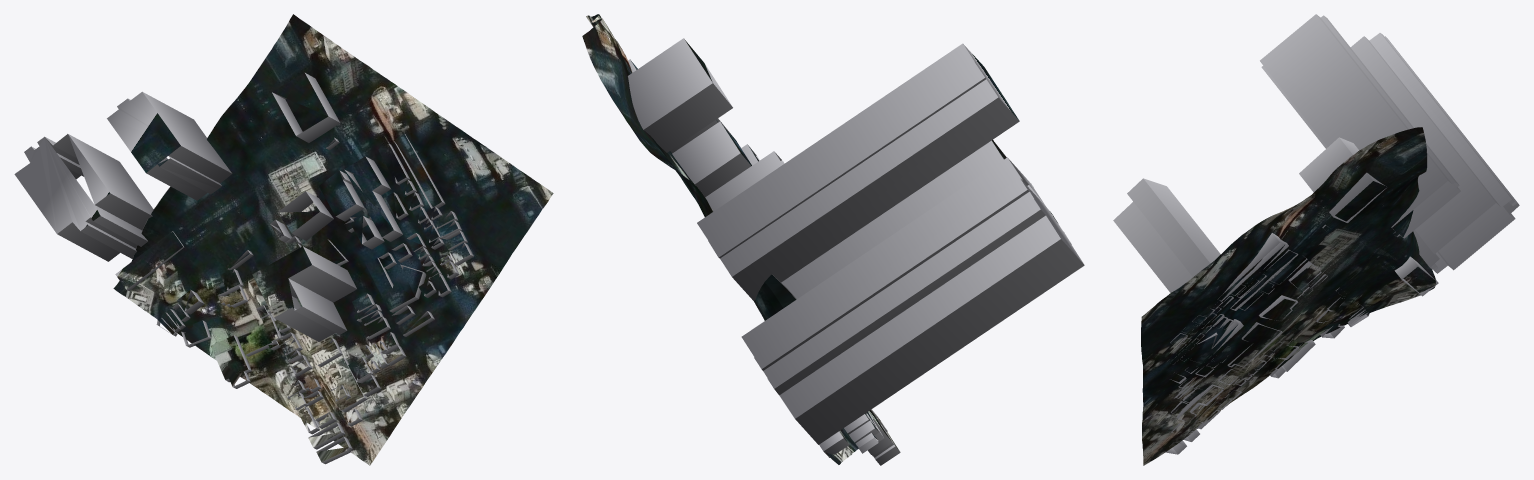
The picture shows the model from 3 angles, left to right: view 1: azimuth 30°, elevation 25°; view 2: azimuth 150°, elevation 25°; view 3: azimuth 270°, elevation 25°; orthographic projection. The views are drawn at different scales.
Bounding box in the file's own units: 372 × 296 × 288.
Materials: 1 (1 with a texture image).
